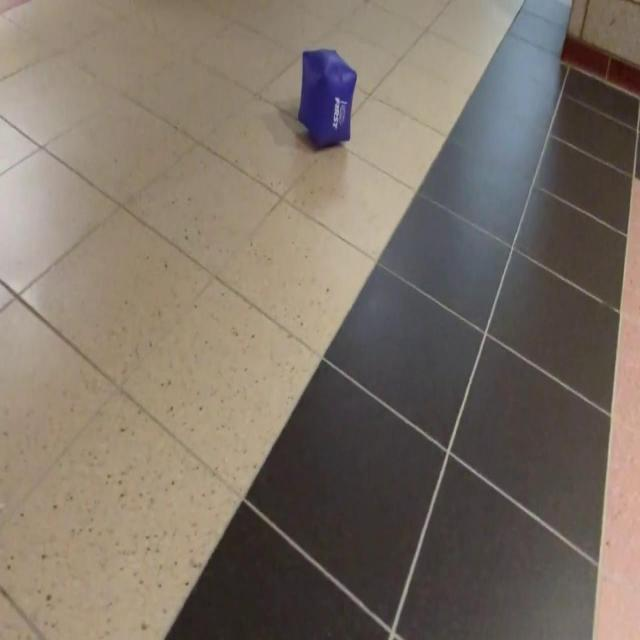frc_cube: (295, 50, 357, 146)
